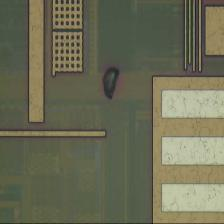PARTICLE: (100, 65, 123, 101)
